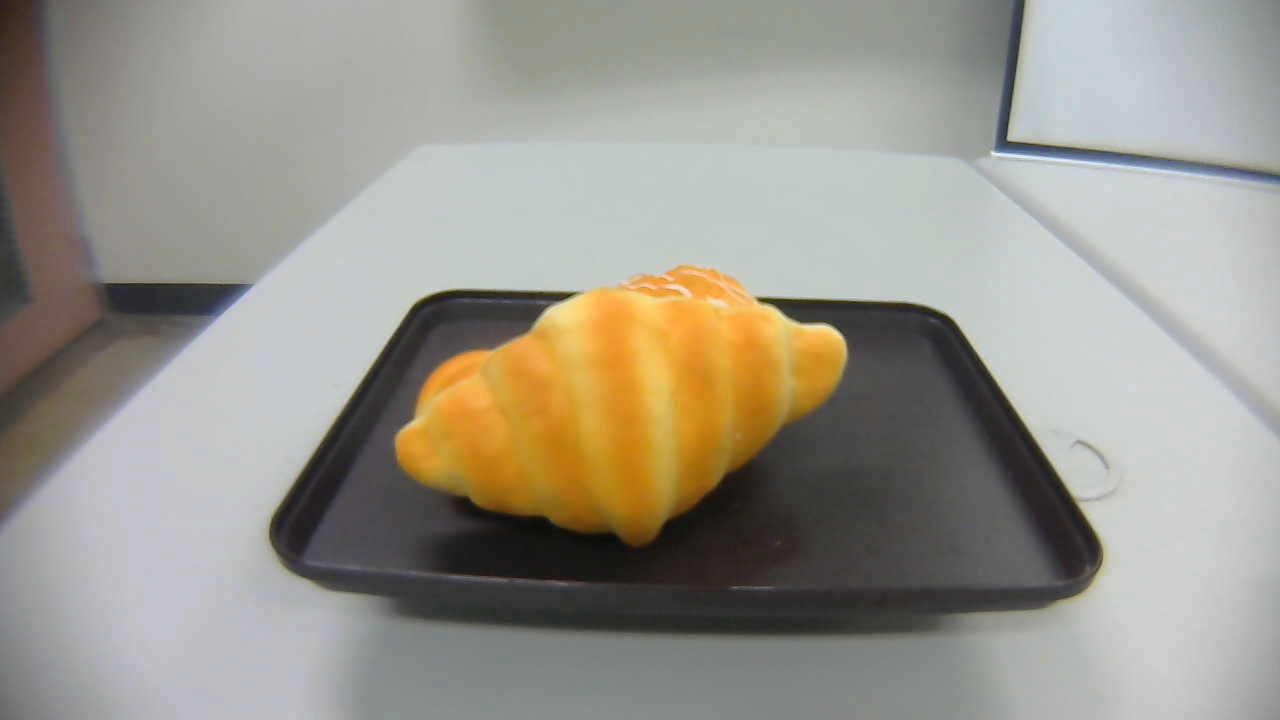croissant: (389, 288, 848, 551)
